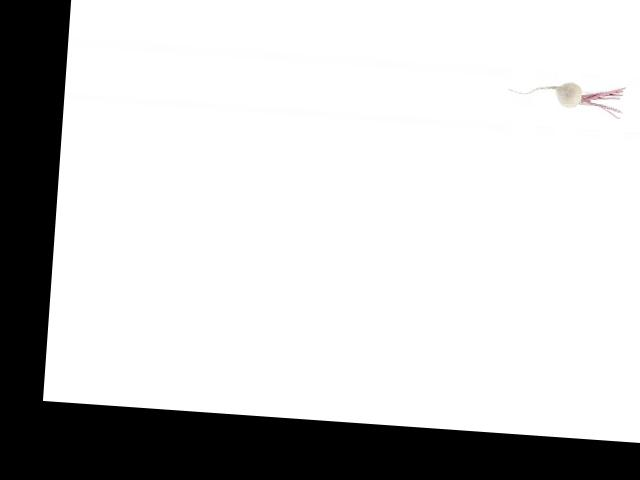beet: (505, 77, 625, 118)
